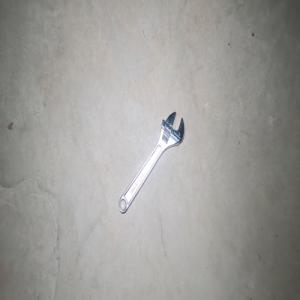Wrench: (118, 111, 184, 213)
